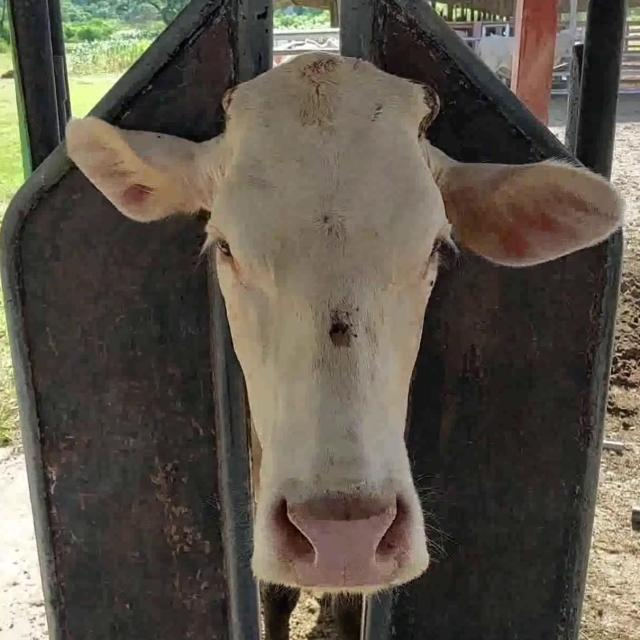cowFace: (205, 52, 447, 594)
